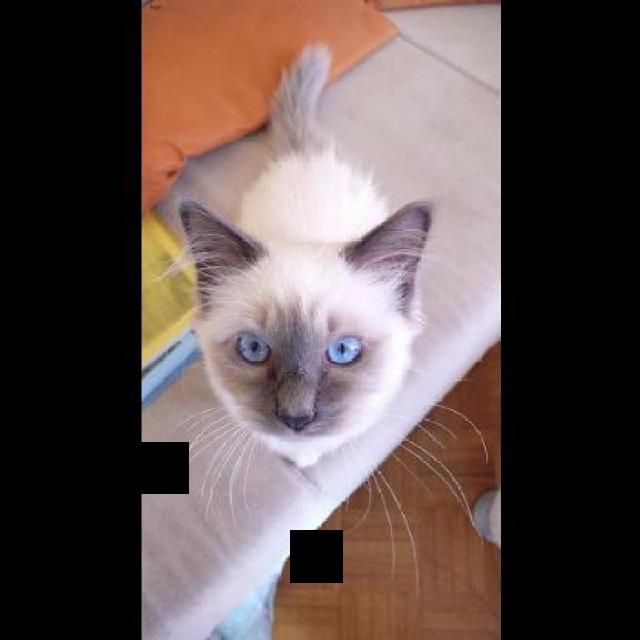unauthorized: (142, 40, 498, 638)
